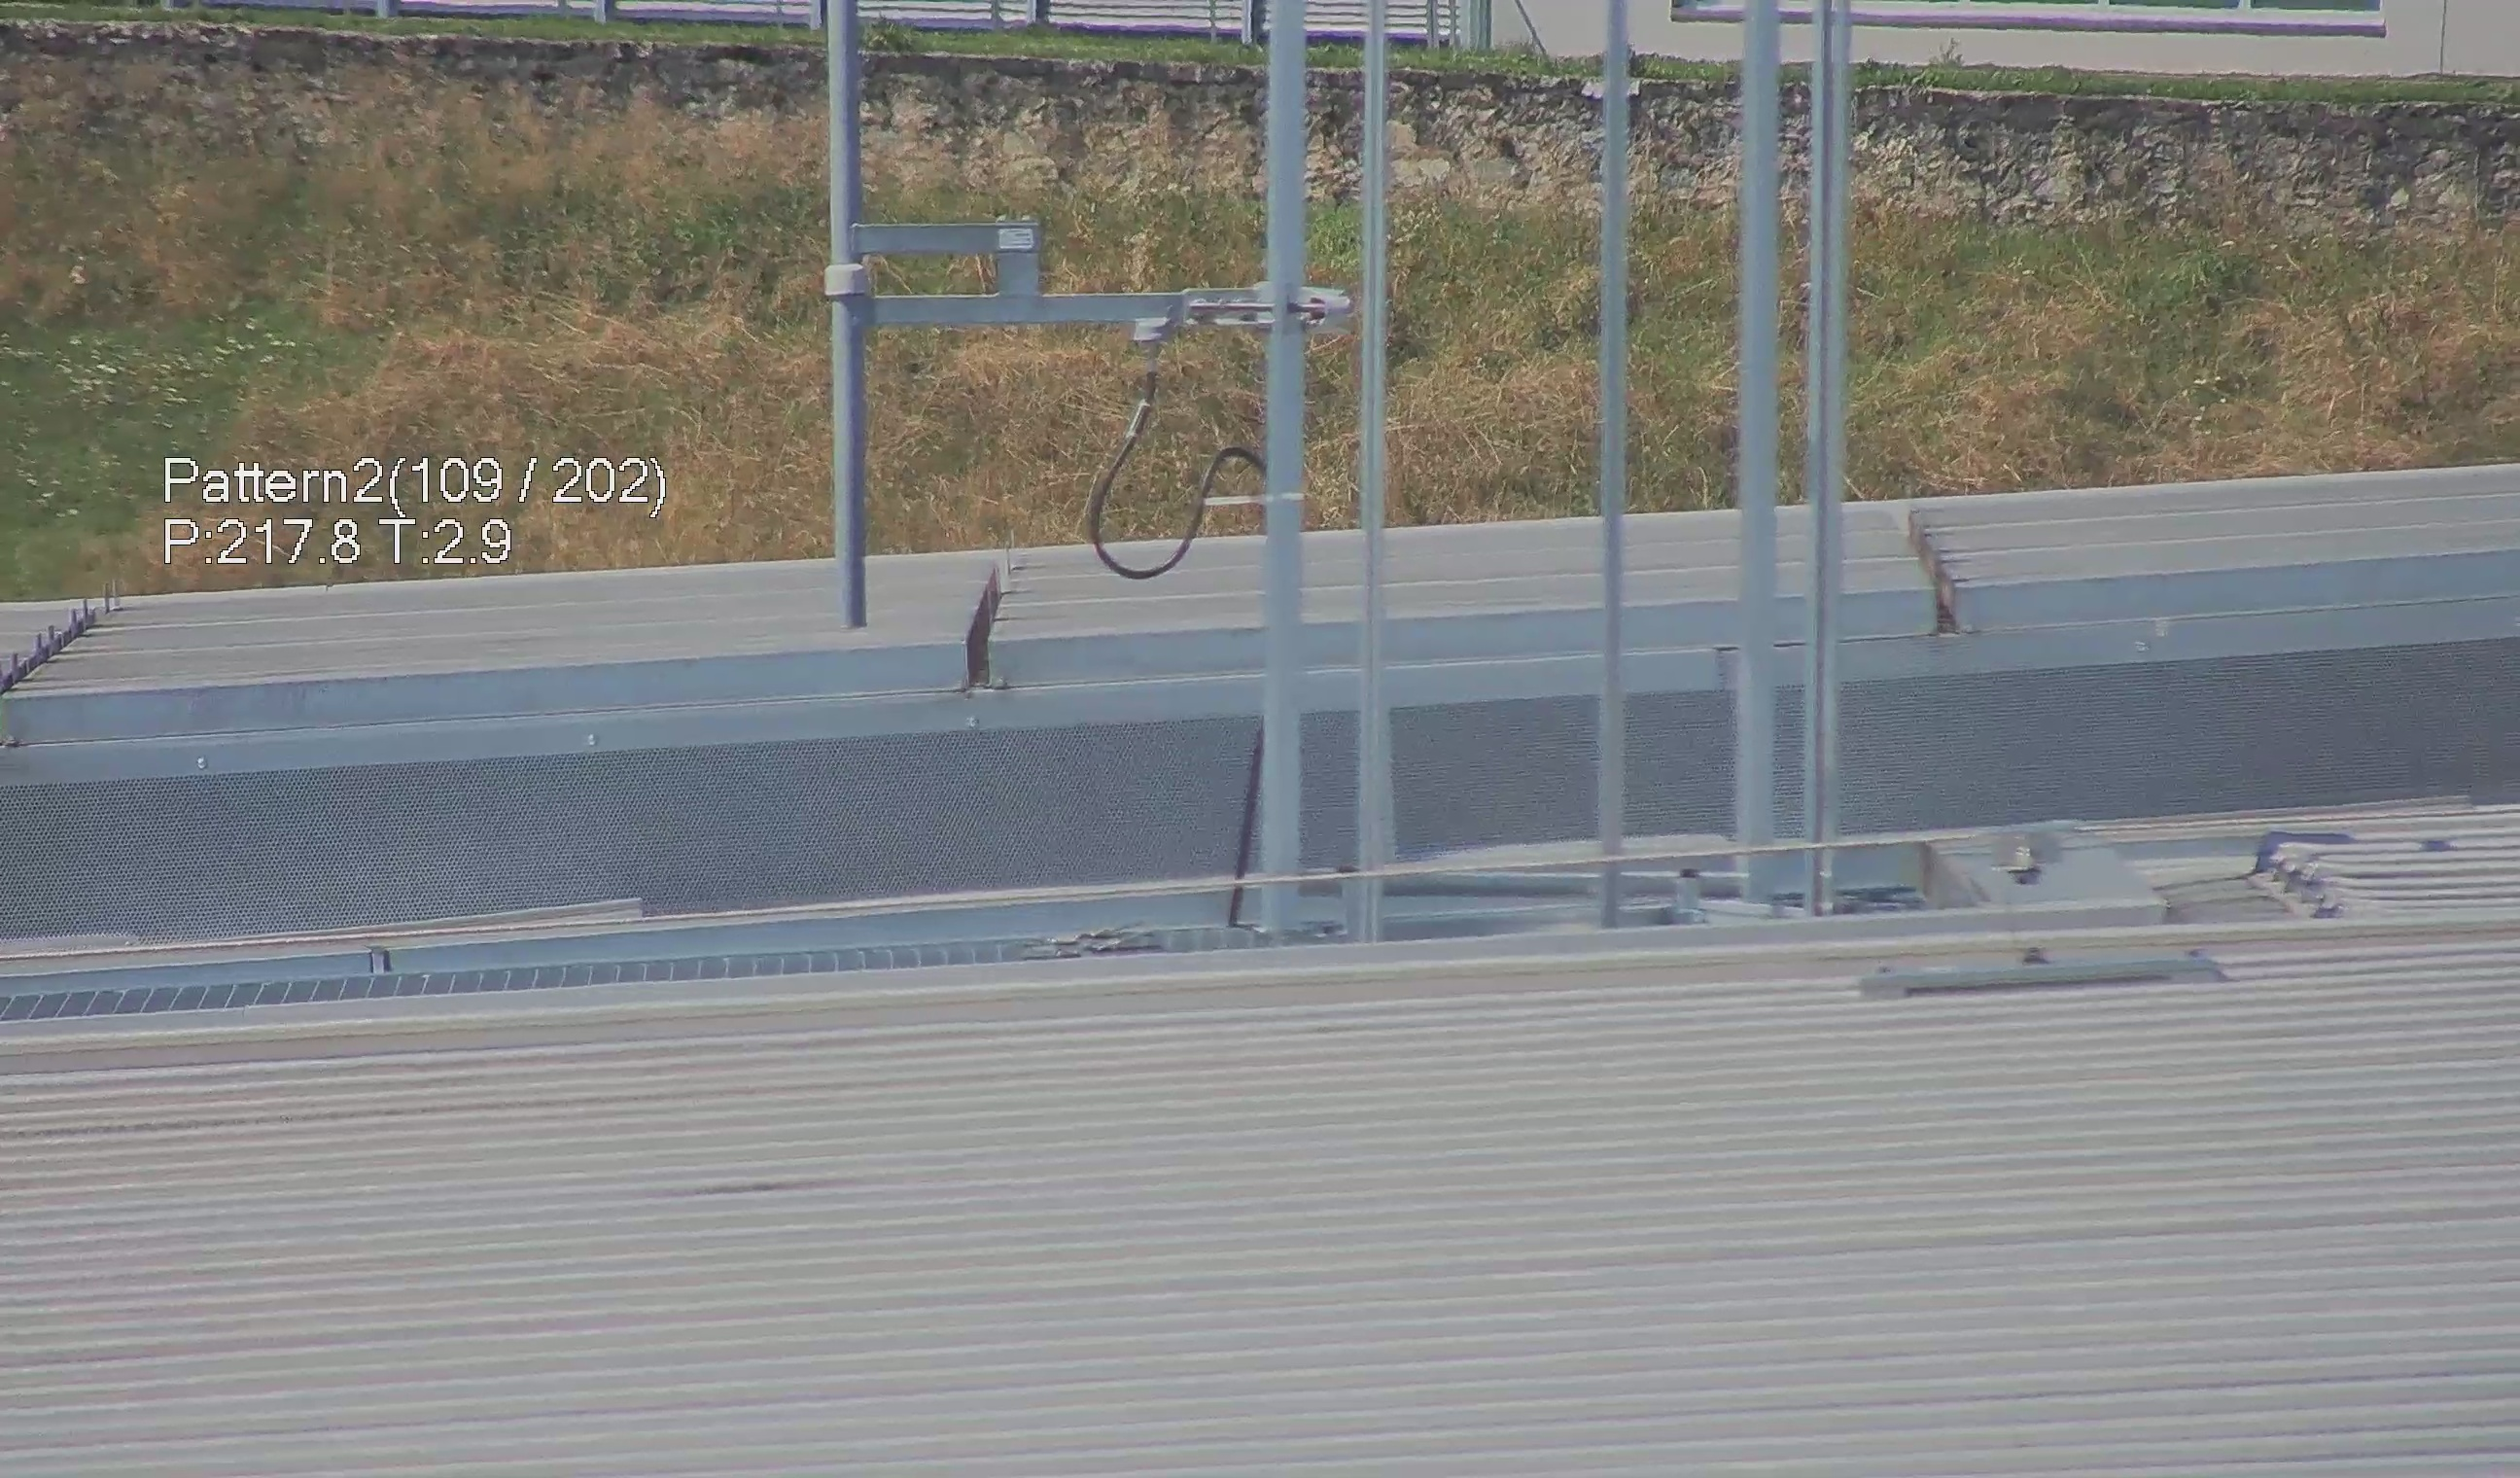Other: (944, 551, 1015, 690)
